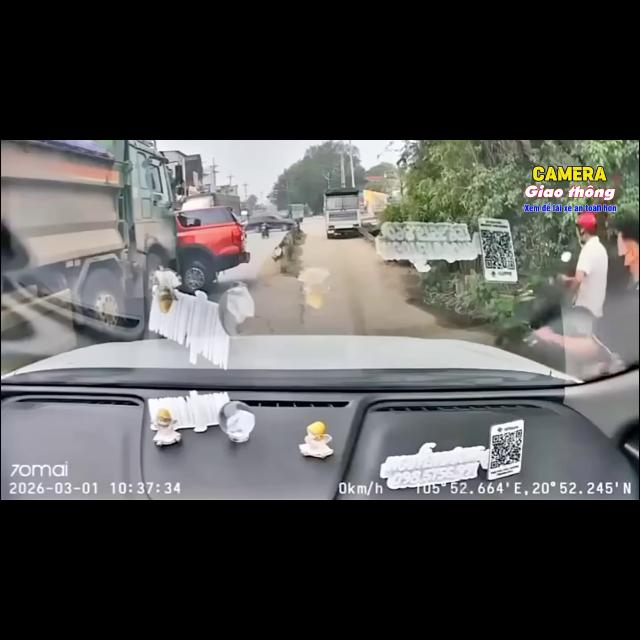car: (2, 334, 640, 500), (176, 206, 249, 292), (245, 214, 296, 231)
motorcycle: (497, 276, 572, 368), (261, 223, 269, 238)
truck: (2, 140, 178, 339), (324, 188, 361, 238), (180, 193, 240, 216), (362, 190, 388, 225), (290, 204, 304, 222)
